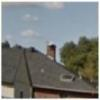chimneys: (46, 41, 57, 62)
